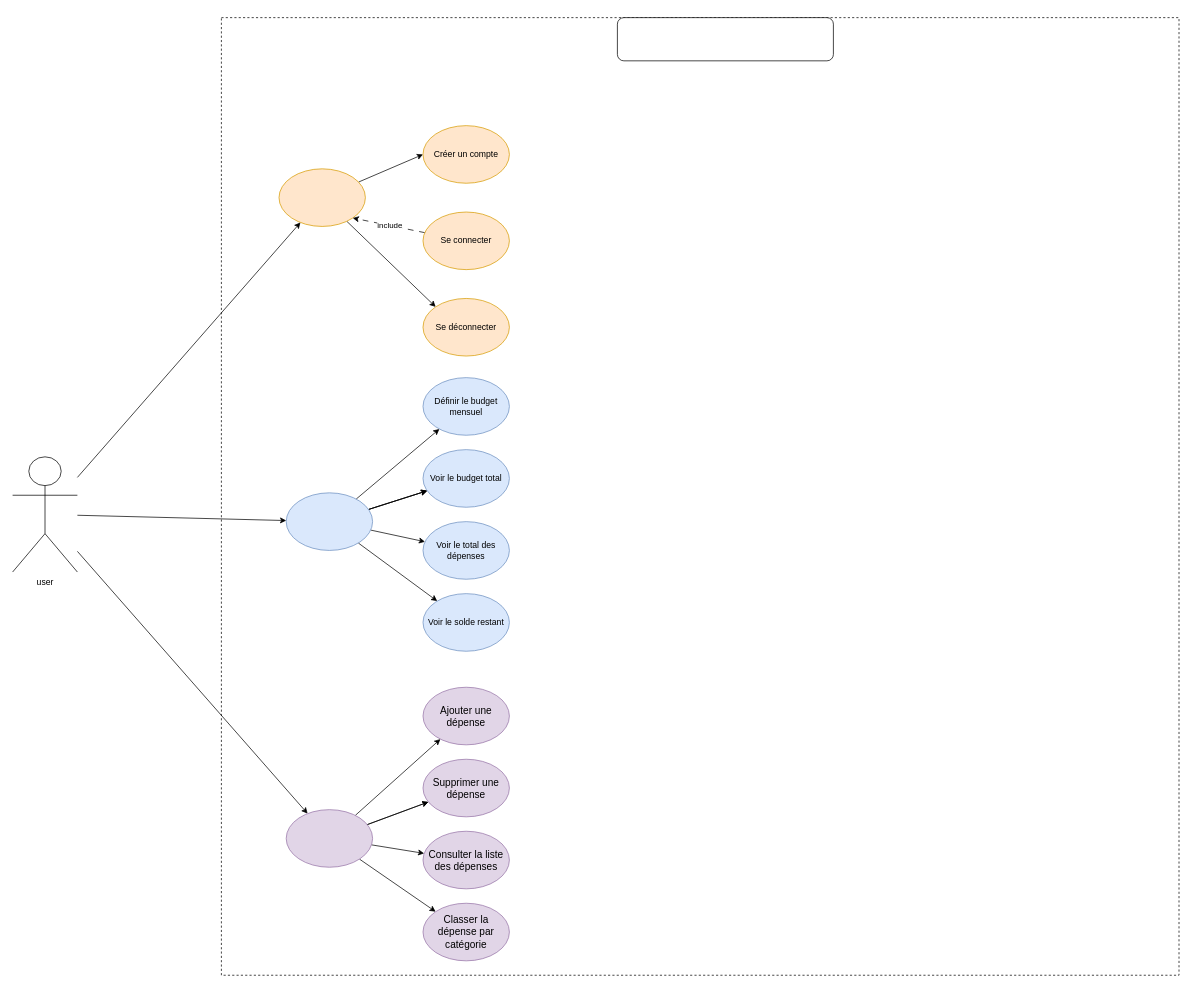
Image size: 1192x988. Some labels were removed from this diagram. The box of each missing label's shape, as (x1, y1, x2, y2) in pixels:
Authentication: (278, 168, 365, 226)
Gerer la déponse: (285, 809, 373, 867)
Géree Portefeuille: (285, 492, 373, 550)
Wallet App: (617, 17, 833, 61)
